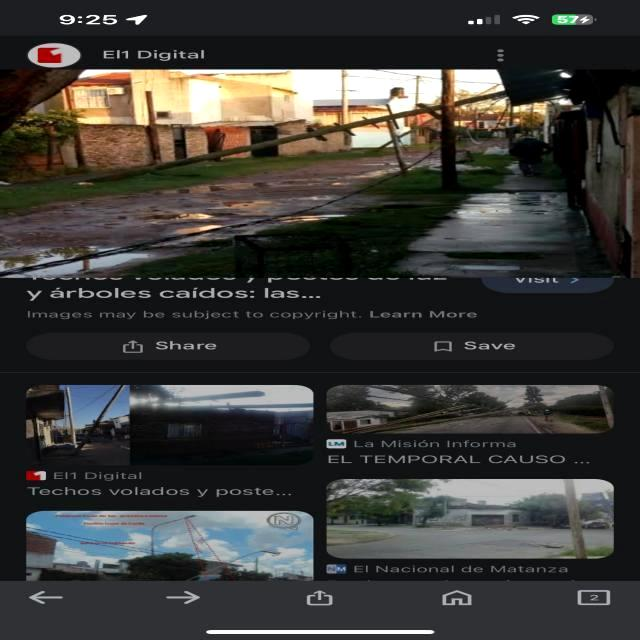Broken Pole: (73, 92, 508, 186), (359, 404, 535, 434), (72, 387, 127, 451)
